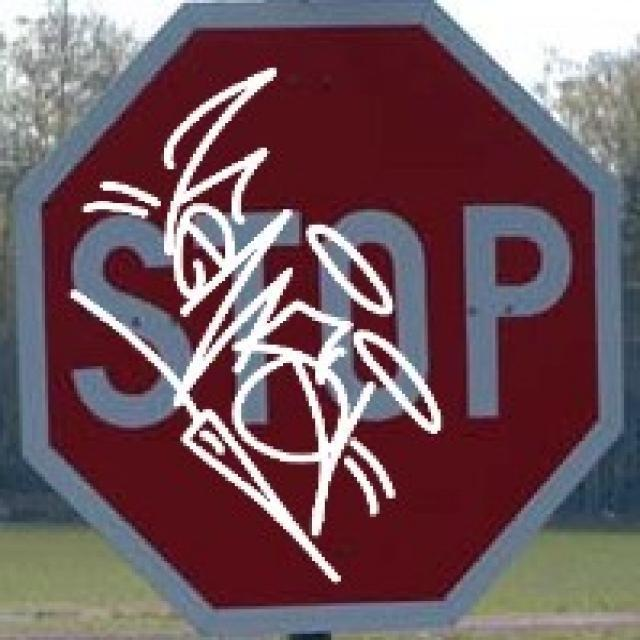Stop-Sign: (40, 45, 581, 588)
